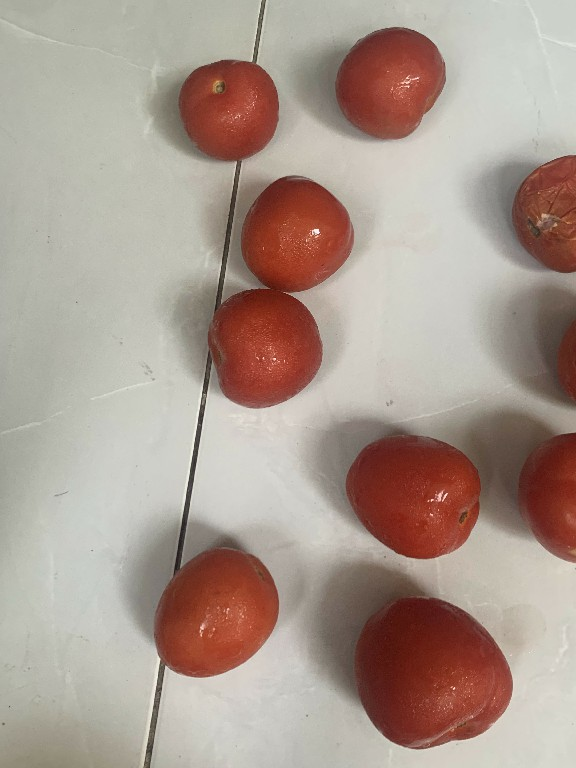OK: (344, 588, 516, 754), (145, 541, 285, 688), (343, 425, 489, 563), (201, 285, 326, 417), (326, 20, 452, 146), (232, 168, 360, 292), (170, 54, 285, 166)
